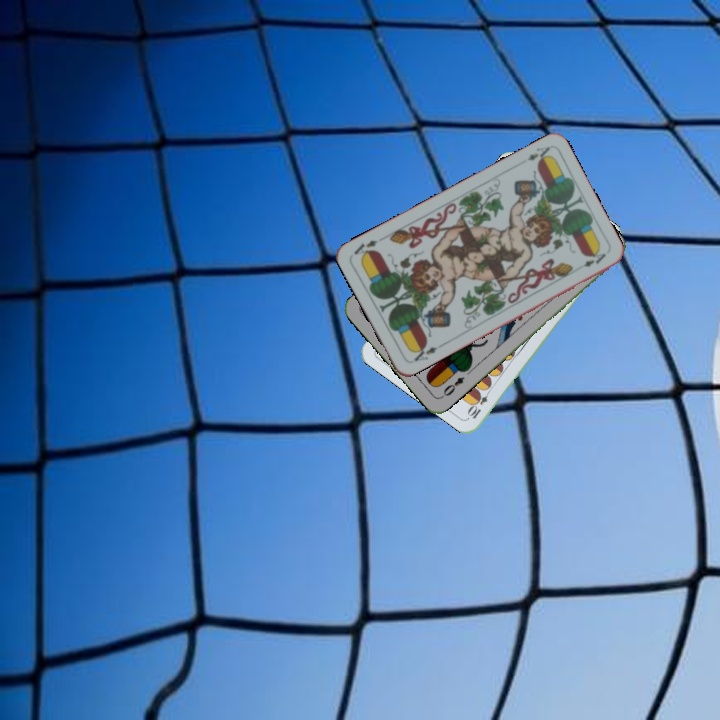E10: (464, 384, 494, 421)
EA: (409, 340, 445, 364), (523, 142, 554, 165)
EO: (437, 373, 467, 401)
